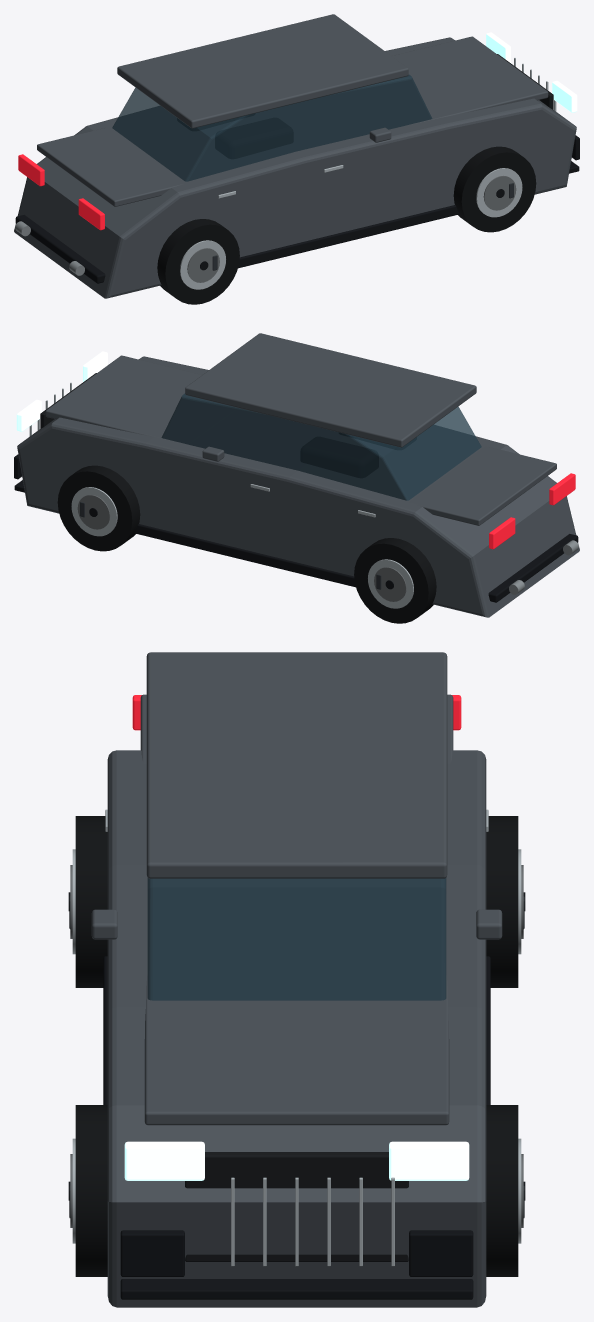
The model's file is rr_cullinan.glb.
3 views of the same model, one above another, from view 1: azimuth 30°, elevation 25°; view 2: azimuth 150°, elevation 25°; view 3: azimuth 270°, elevation 25° (orthographic). The views are drawn at different scales.
Visible parts, largest first — view 1: sculpted_body, roof, glasshouse, hood_center, rear_deck, rear_right_wheel_tire, front_right_wheel_tire, side_skirt_1, seat_1, rear_diffuser, rear_right_wheel_rim, front_right_wheel_rim (+6 smaller); view 2: sculpted_body, roof, glasshouse, hood_center, rear_deck, rear_left_wheel_tire, front_left_wheel_tire, side_skirt_-1, seat_-1, rear_diffuser, rear_left_wheel_rim, front_left_wheel_rim (+6 smaller); view 3: sculpted_body, roof, hood_center, glasshouse, front_grille, front_splitter, front_left_wheel_tire, front_right_wheel_tire, rear_left_wheel_tire, rear_right_wheel_tire, headlight_right, headlight_left (+5 smaller).
Part boxes in pixels (<box>): sculpted_body: <box>14,37,576,298</box>; roof: <box>117,14,408,128</box>; glasshouse: <box>112,74,432,181</box>; hood_center: <box>357,36,548,125</box>; rear_deck: <box>37,127,184,206</box>; rear_right_wheel_tire: <box>157,219,239,304</box>; front_right_wheel_tire: <box>453,146,536,232</box>; side_skirt_1: <box>238,205,459,268</box>; seat_1: <box>215,118,292,158</box>; rear_diffuser: <box>15,215,105,283</box>; rear_right_wheel_rim: <box>180,240,225,289</box>; front_right_wheel_rim: <box>476,168,522,217</box>; sculpted_body: <box>17,356,579,617</box>; roof: <box>185,333,476,447</box>; glasshouse: <box>161,393,481,500</box>; hood_center: <box>45,355,236,444</box>; rear_deck: <box>409,446,556,525</box>; rear_left_wheel_tire: <box>354,538,436,623</box>; front_left_wheel_tire: <box>57,465,140,551</box>; side_skirt_-1: <box>134,524,355,587</box>; seat_-1: <box>301,437,378,477</box>; rear_diffuser: <box>488,534,578,602</box>; rear_left_wheel_rim: <box>368,559,413,608</box>; front_left_wheel_rim: <box>71,487,117,536</box>; sculpted_body: <box>107,750,486,1307</box>; roof: <box>146,652,447,878</box>; hood_center: <box>144,974,449,1125</box>; glasshouse: <box>147,878,446,1000</box>; front_grille: <box>185,1152,408,1261</box>; front_splitter: <box>120,1279,473,1299</box>; front_left_wheel_tire: <box>486,1105,518,1276</box>; front_right_wheel_tire: <box>75,1105,107,1276</box>; rear_left_wheel_tire: <box>486,816,518,987</box>; rear_right_wheel_tire: <box>75,816,107,987</box>; headlight_right: <box>124,1141,204,1180</box>; headlight_left: <box>389,1141,469,1180</box>.
Size of the model in its own units: 5.7 by 1.85 by 2.28.
